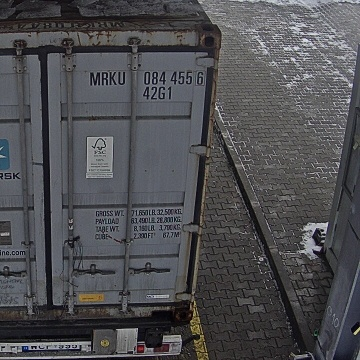serial_id: (89, 71, 204, 86)
